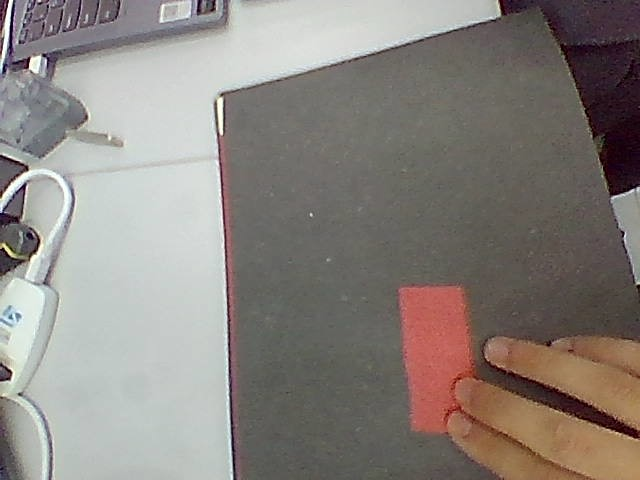card: (399, 286, 473, 432)
